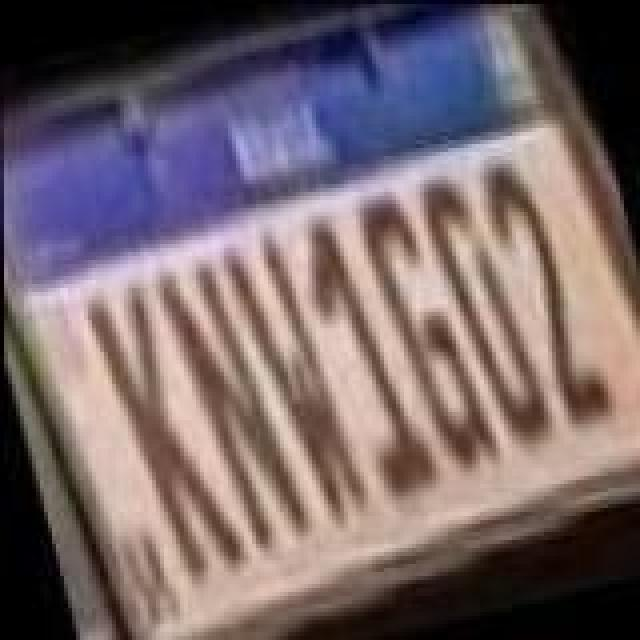1: (288, 204, 440, 504)
2: (476, 146, 620, 438)
D: (410, 162, 558, 458)
G: (350, 178, 506, 482)
K: (82, 272, 250, 592)
N: (152, 256, 312, 564)
W: (216, 224, 376, 540)
